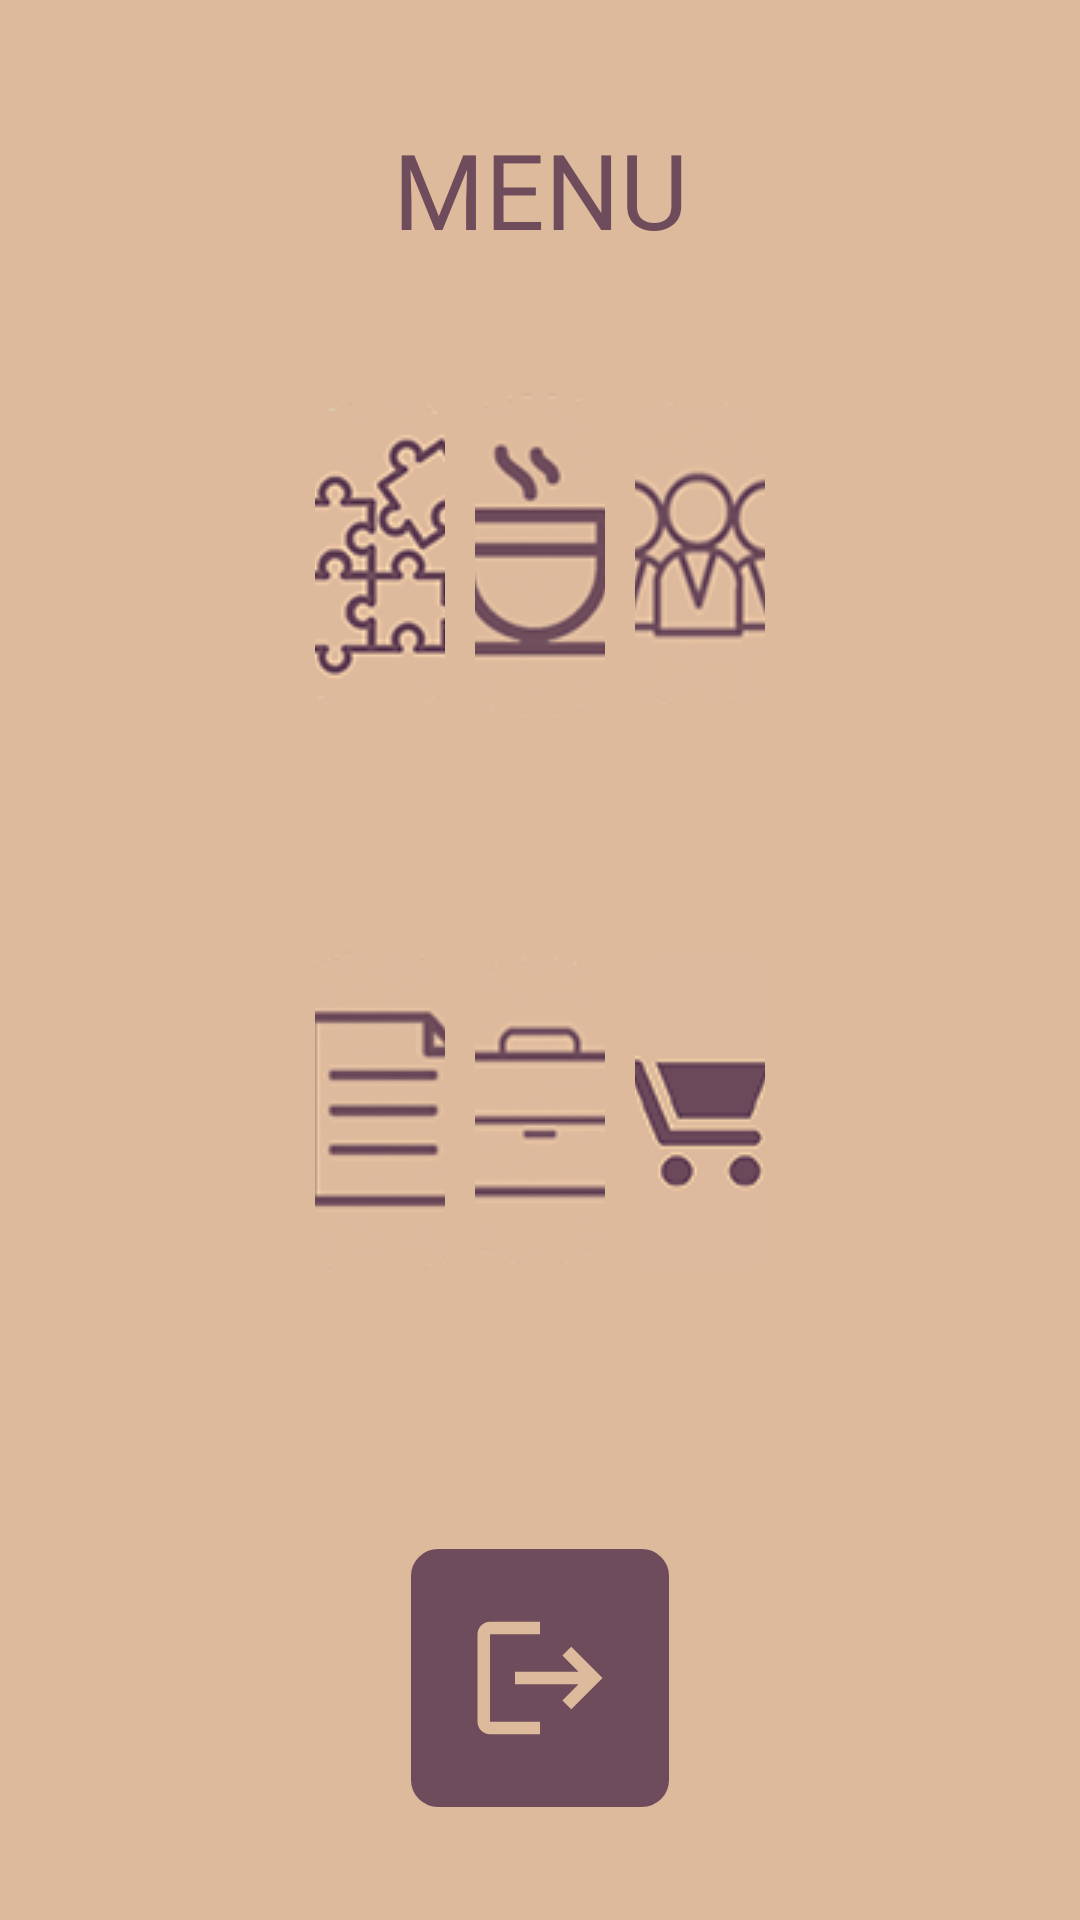

Icon click points for this 1080 x 1920 phone screenshot, format (x=x, y=y):
lgout: (x=540, y=1678)
